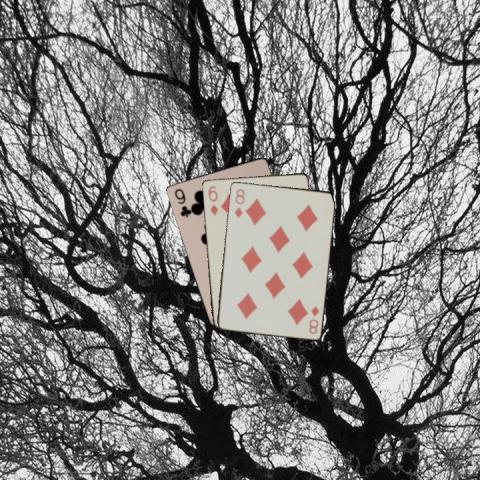6d: (206, 183, 220, 216)
8d: (231, 185, 246, 219), (305, 303, 320, 335)
9c: (171, 185, 191, 219)
